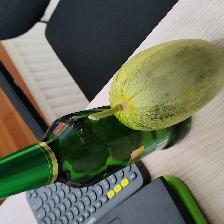gua: (107, 38, 220, 122)
